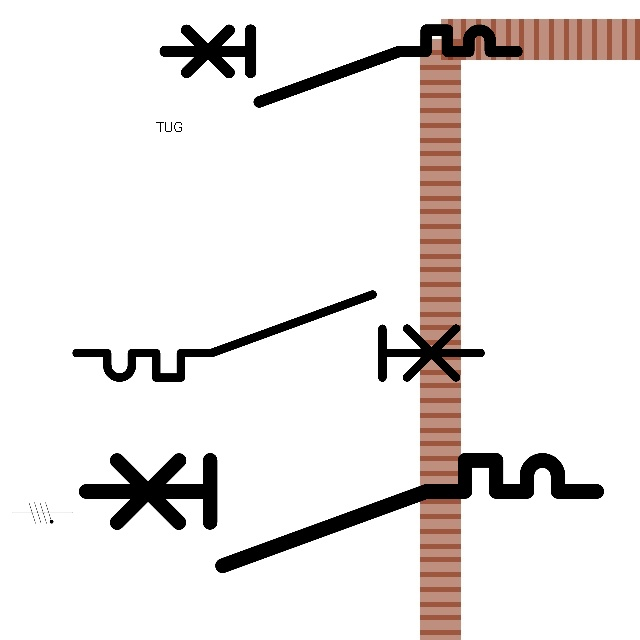interruptor_termomagnetico: (72, 447, 610, 578), (66, 284, 491, 388), (156, 21, 526, 111)
